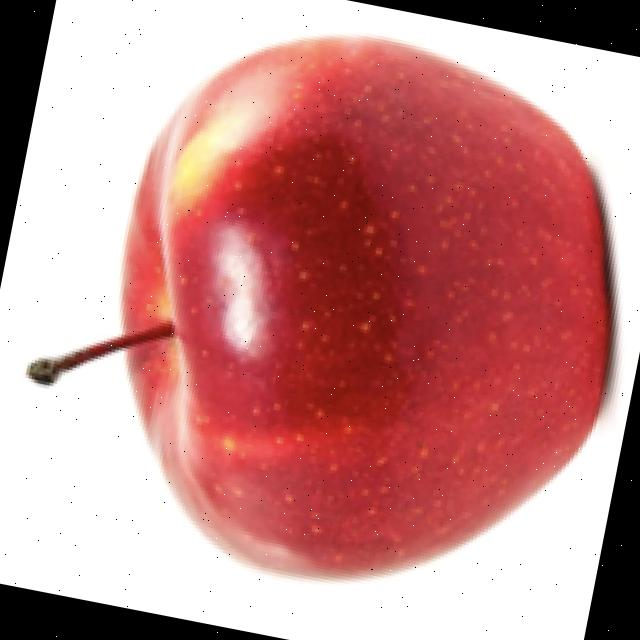apple: (19, 31, 625, 588)
